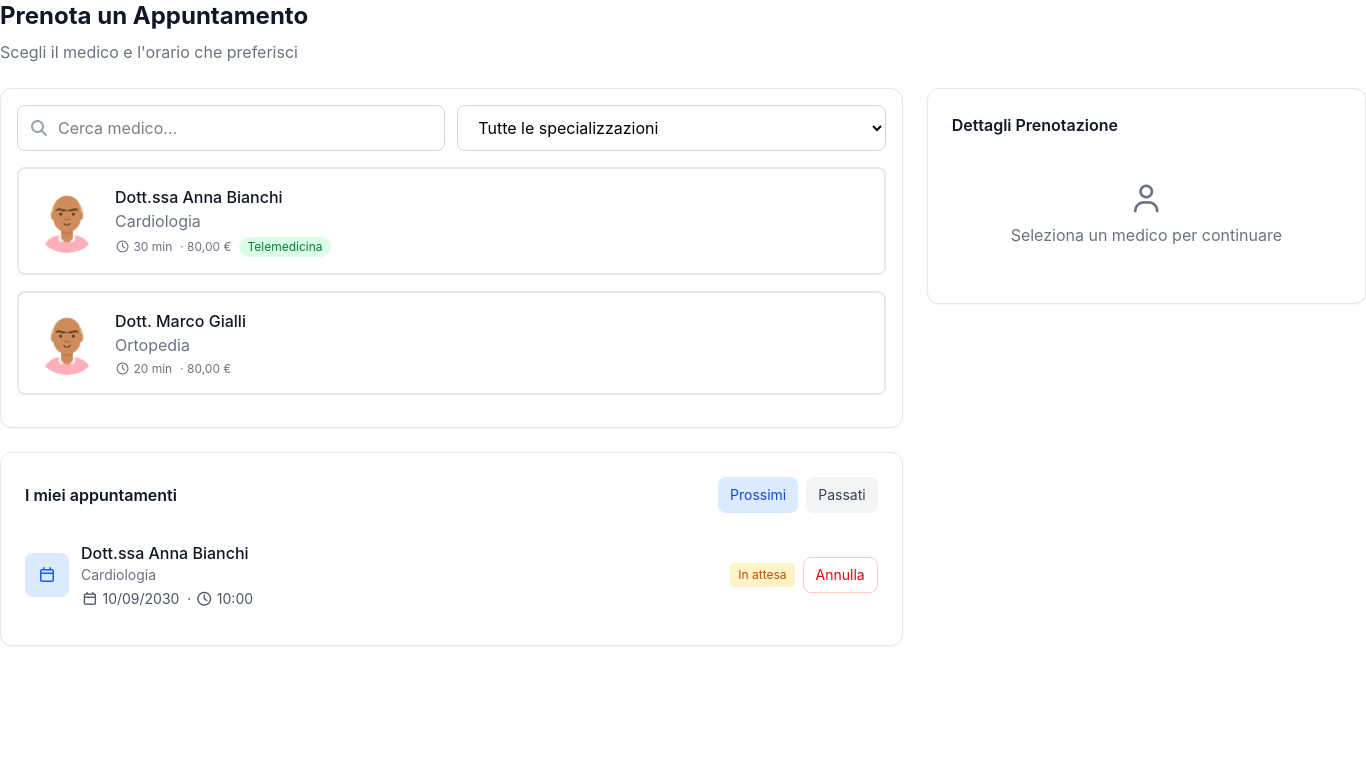
Test case: Prenotazione visite (paziente) › dopo la conferma azzera il form e ricarica l agenda
This screenshot has width=1366, height=761.
Click the button that starts with "Dott.ssa Anna Bianchi" at (67, 221), box x1=17 y1=167 x2=886 y2=275
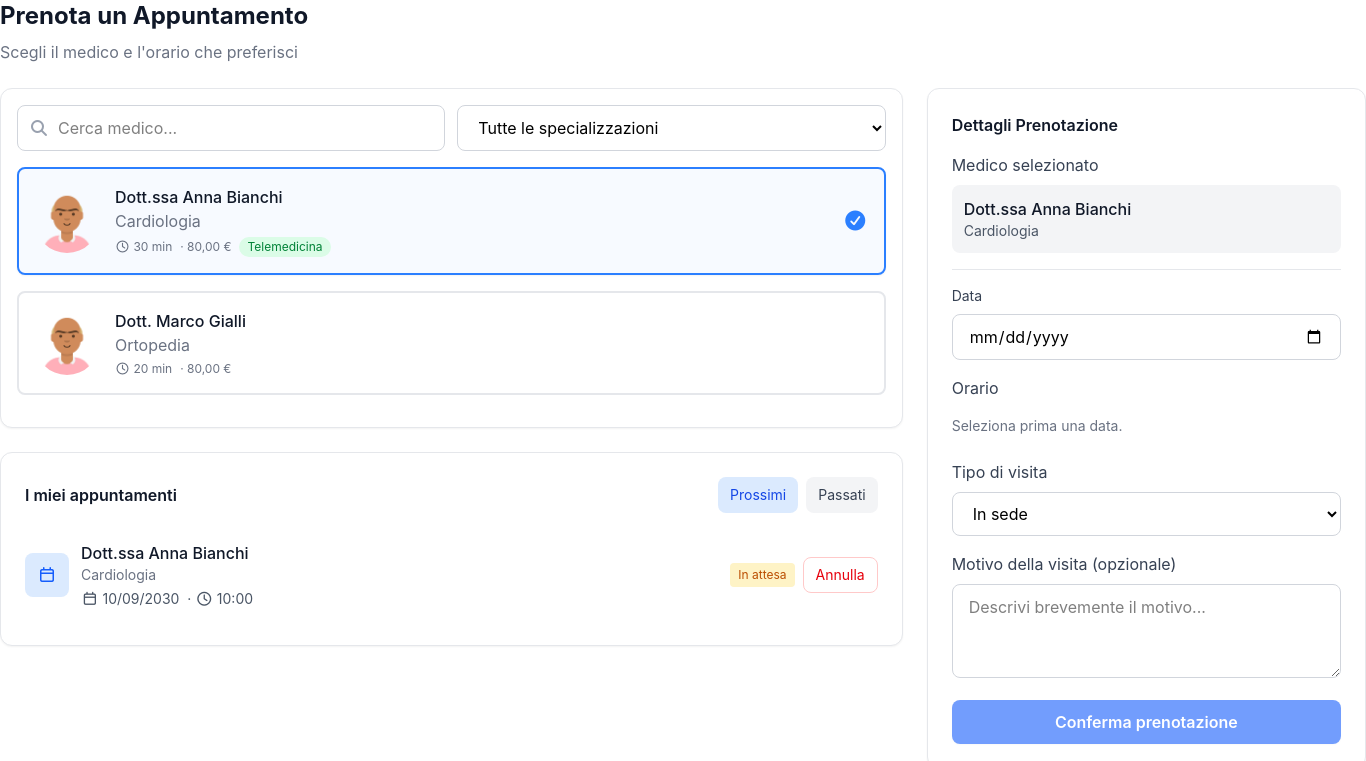
Type "2030-09-10" into the date field with id "booking-date" at (1146, 337), box x1=952 y1=314 x2=1341 y2=360
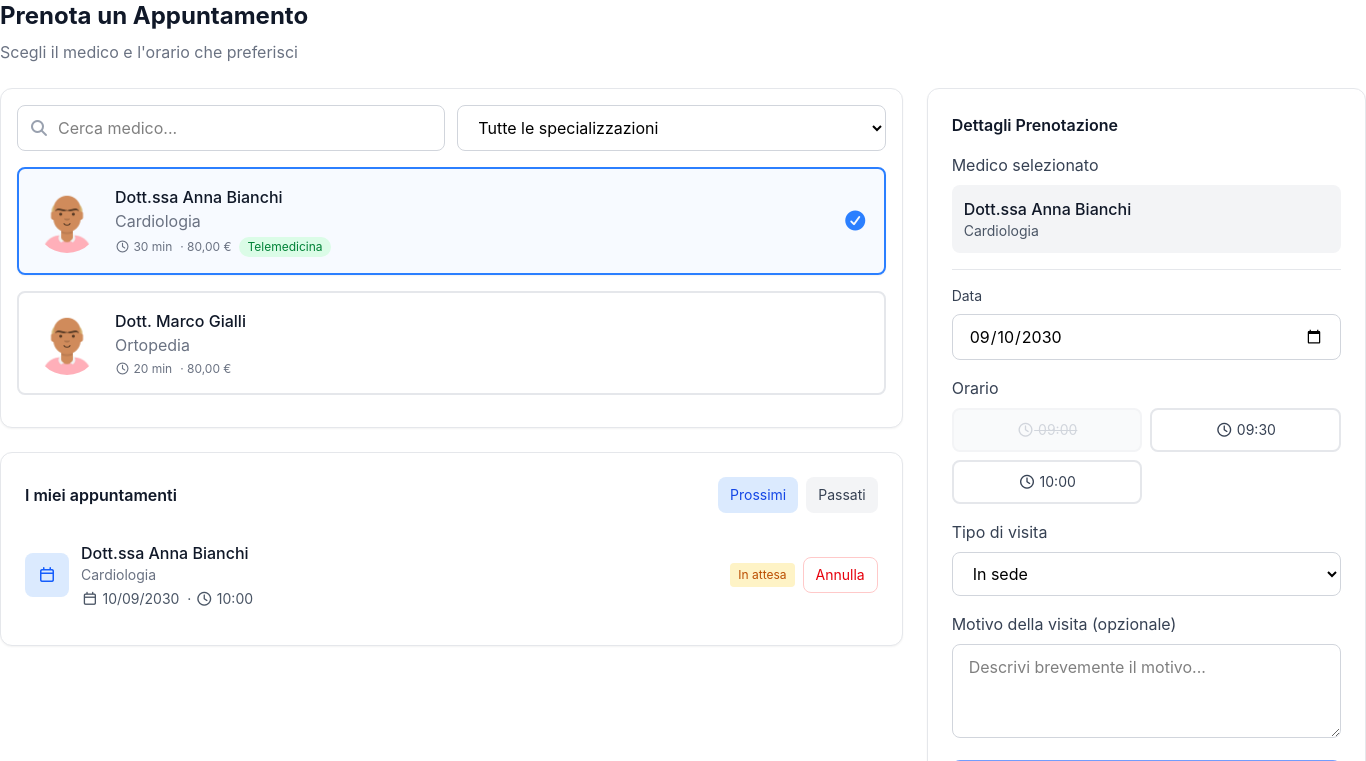
Click the button "09:30" at (1246, 430), box x1=1150 y1=408 x2=1341 y2=452
(page scrolled)
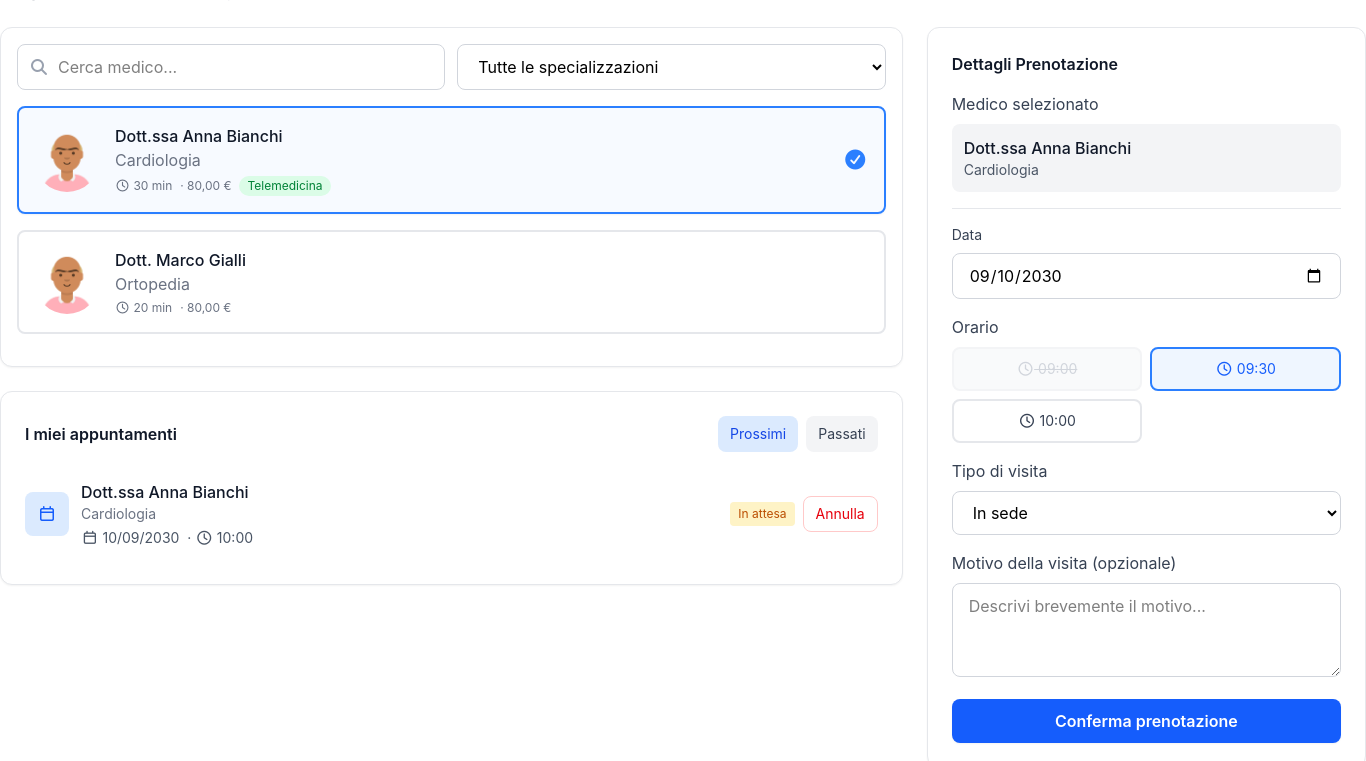
Submit the form, box x1=952 y1=92 x2=1341 y2=743
(page scrolled)
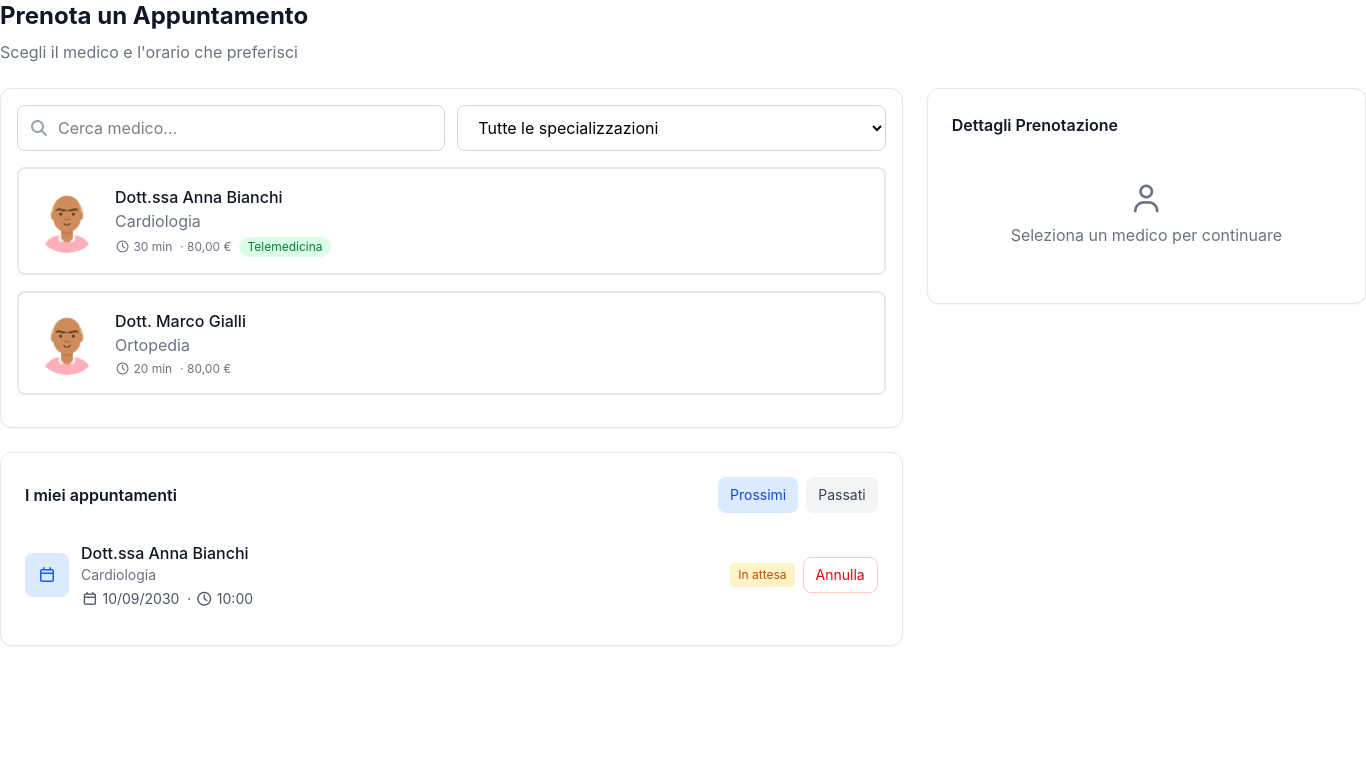
Expected: the text "Seleziona un medico per continuare" is shown, x1=1011 y1=225 x2=1282 y2=245
